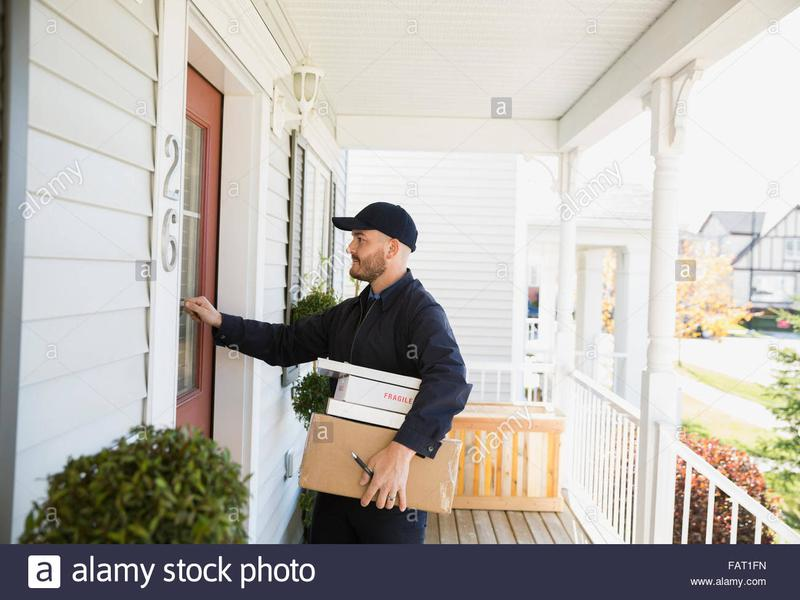package: (293, 408, 465, 521), (324, 372, 419, 415)
